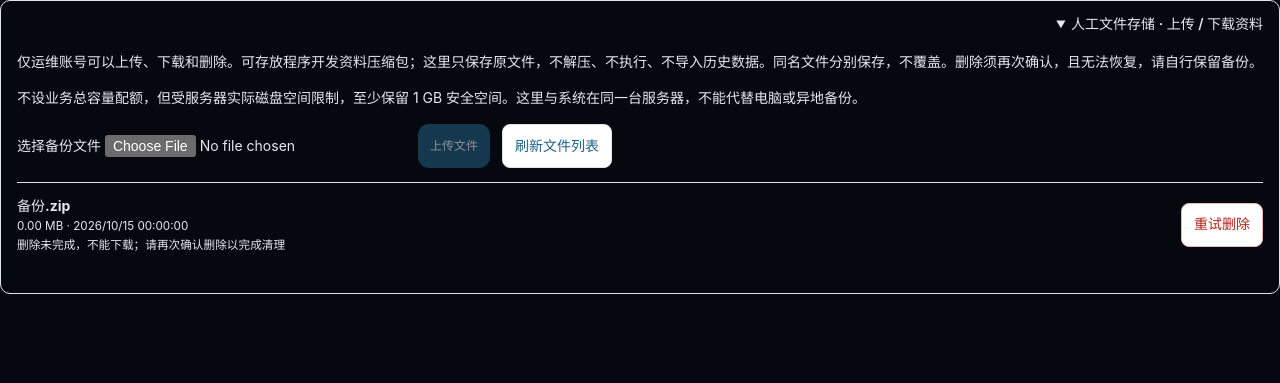
Test: private backup files › keeps failed deletion retryable and never offers incomplete deletion as a download
Step 1. Click the button with class "file-storage__delete" → [1222, 225], box top-left (1181, 203), bottom-right (1263, 247)
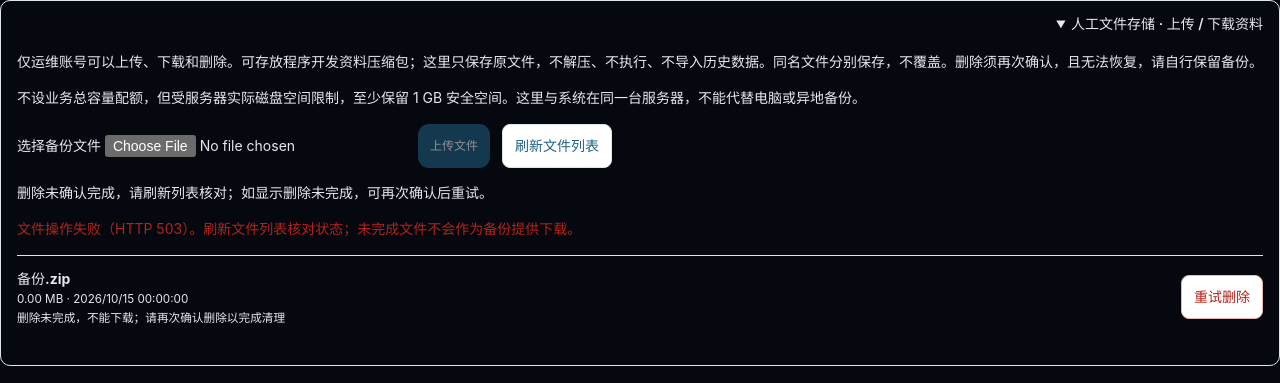
Expected: the button with class "file-storage__delete" reads "重试删除", top-left (1181, 275), bottom-right (1263, 319)
Result: the text "删除未确认完成" is shown at top-left (17, 184), bottom-right (493, 201)
